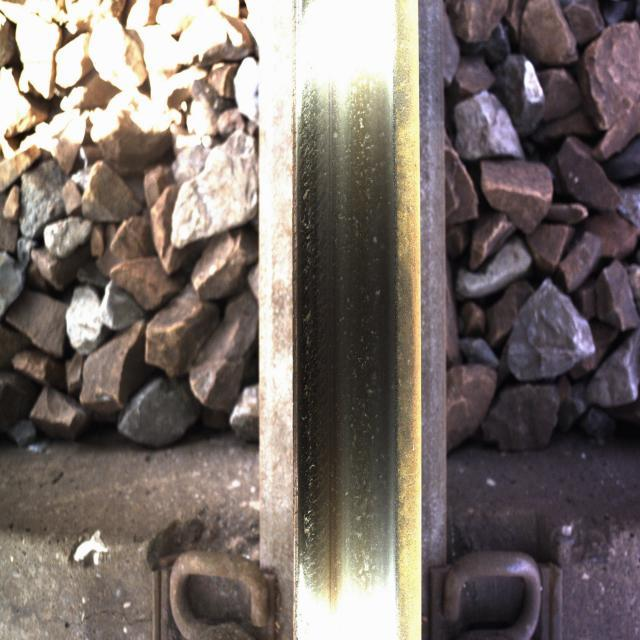normal: (300, 29, 396, 596)
